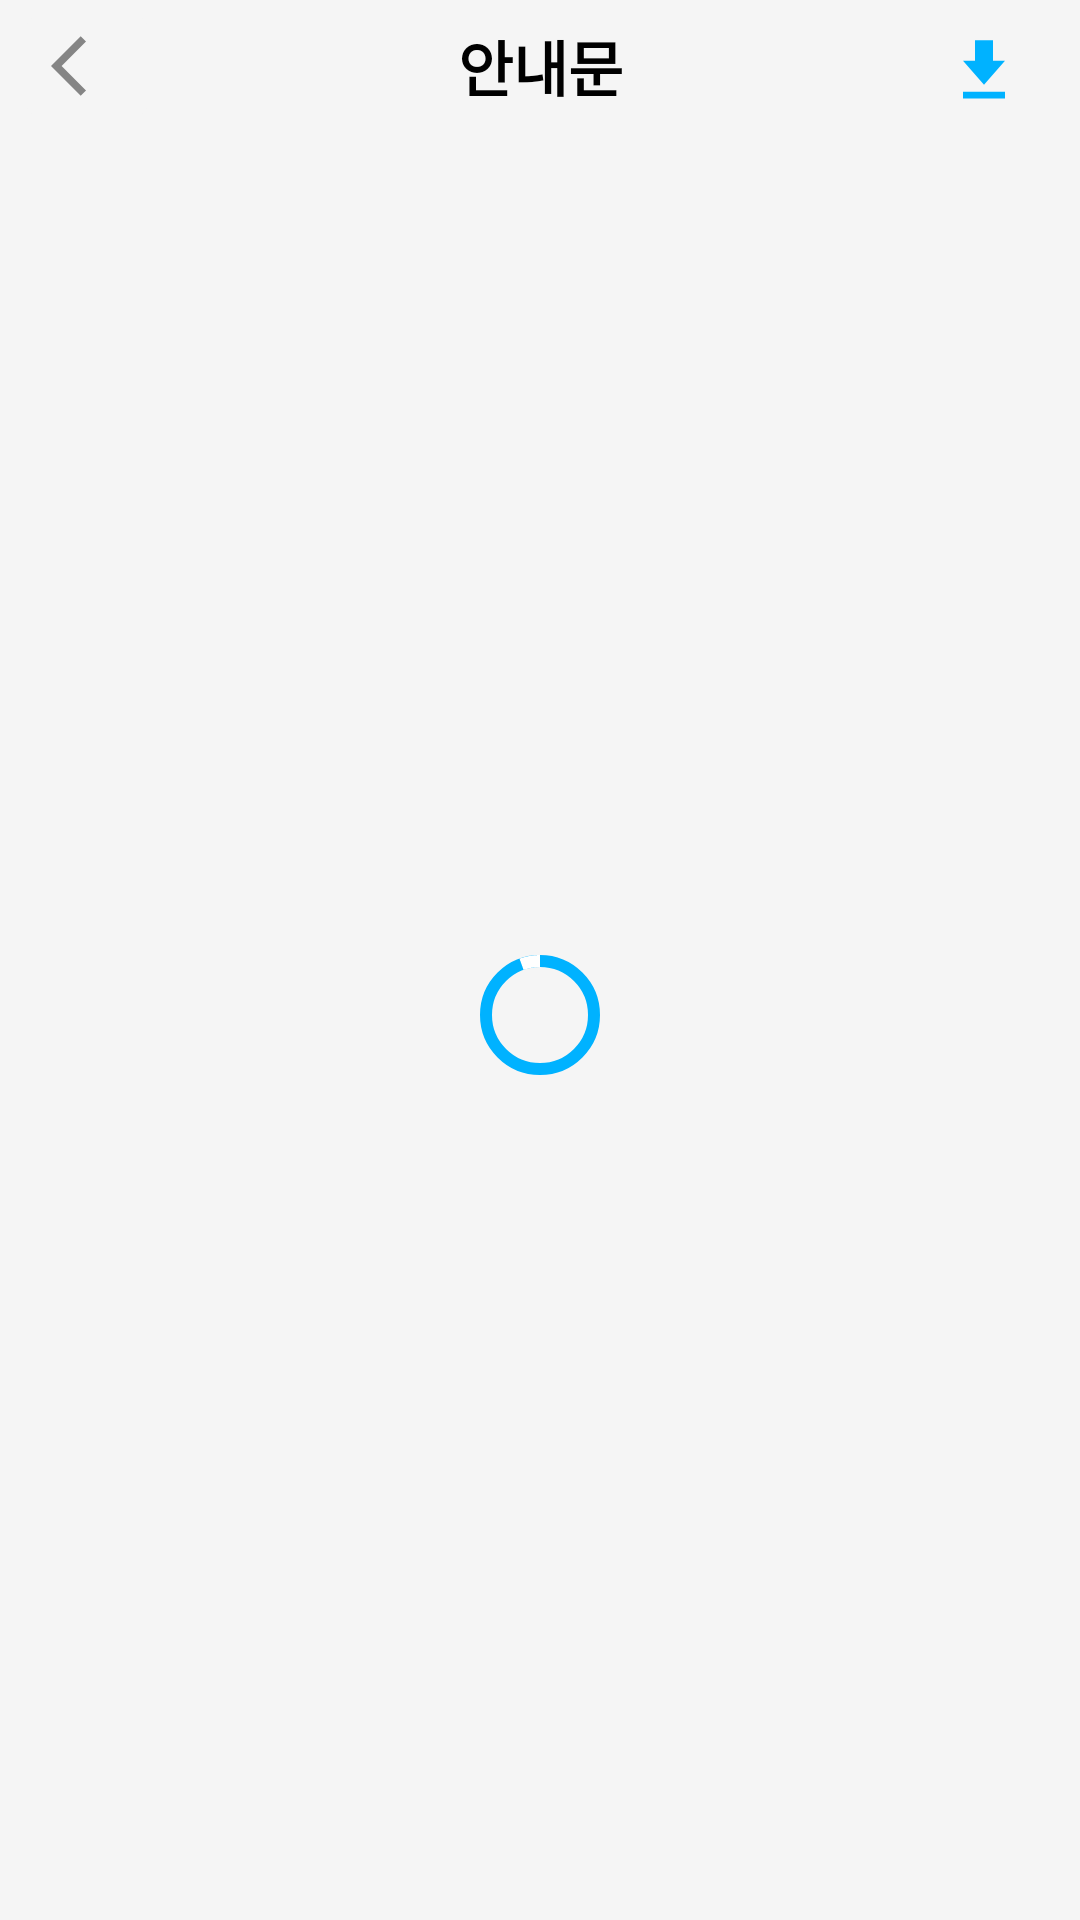

Locate icon controls on the screen. Image size 1080px x 1920px, boxes as (x1, y1, x2, y2).
file download: (963, 40, 1005, 99)
